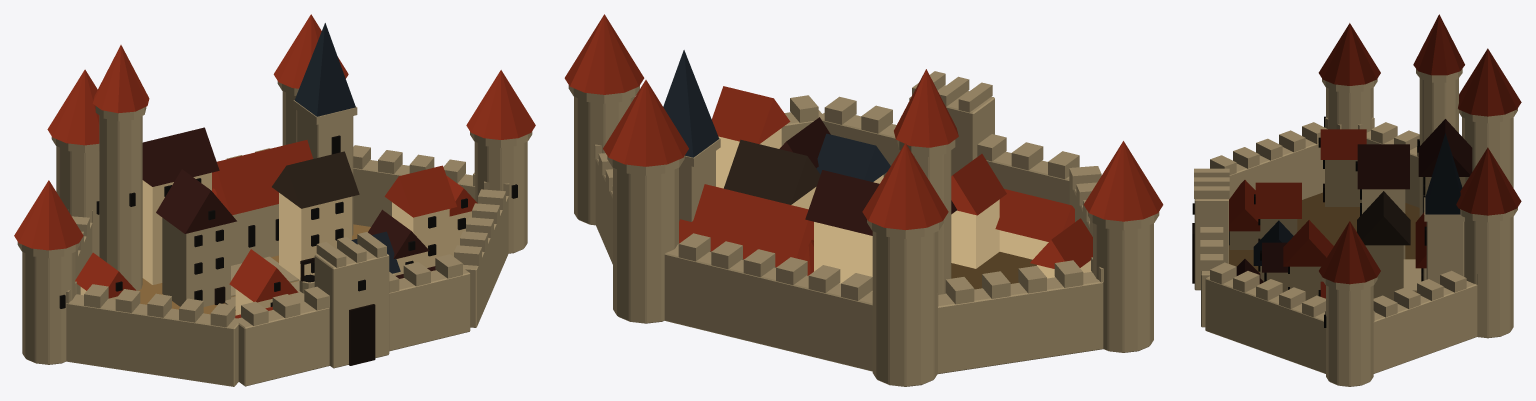
The model's file is settle_2_3.obj.
3 views of the same model, side by side, from view 1: azimuth 30°, elevation 25°; view 2: azimuth 150°, elevation 25°; view 3: azimuth 270°, elevation 25° (orthographic). The views are drawn at different scales.
Visible parts, largest first — view 1: core_stone, core_roof_civic, core_plaster, core_roof_tile_old, core_roof_tile, core_roof_shingle, core_slate, core_window, core_wood_dark, core_cloth; view 2: core_stone, core_roof_civic, core_roof_tile, core_plaster, core_roof_tile_old, core_roof_shingle, core_slate, core_roof_slate, core_cloth; view 3: core_stone, core_roof_civic, core_roof_tile, core_plaster, core_roof_tile_old, core_cloth, core_roof_shingle, core_slate, core_roof_slate, core_window.
Part boxes in pixels (bbox=[...]): core_stone: bbox=[17, 81, 532, 386]; core_roof_civic: bbox=[14, 14, 535, 250]; core_plaster: bbox=[80, 172, 471, 315]; core_roof_tile_old: bbox=[142, 127, 435, 278]; core_roof_tile: bbox=[75, 165, 477, 318]; core_roof_shingle: bbox=[272, 151, 359, 208]; core_slate: bbox=[294, 23, 355, 116]; core_window: bbox=[59, 135, 517, 308]; core_wood_dark: bbox=[214, 257, 375, 365]; core_cloth: bbox=[138, 224, 370, 315]; core_stone: bbox=[568, 71, 1159, 386]; core_roof_civic: bbox=[564, 14, 1163, 275]; core_roof_tile: bbox=[711, 86, 1092, 268]; core_plaster: bbox=[716, 128, 1091, 291]; core_roof_tile_old: bbox=[779, 117, 956, 235]; core_roof_shingle: bbox=[723, 139, 820, 204]; core_slate: bbox=[663, 50, 719, 157]; core_roof_slate: bbox=[816, 133, 890, 181]; core_cloth: bbox=[951, 252, 1036, 289]; core_stone: bbox=[1194, 69, 1517, 386]; core_roof_civic: bbox=[1318, 14, 1521, 284]; core_roof_tile: bbox=[1229, 129, 1366, 298]; core_plaster: bbox=[1229, 160, 1465, 300]; core_roof_tile_old: bbox=[1236, 119, 1472, 283]; core_cloth: bbox=[1229, 192, 1419, 292]; core_roof_shingle: bbox=[1357, 191, 1410, 245]; core_slate: bbox=[1425, 133, 1462, 214]; core_roof_slate: bbox=[1253, 220, 1293, 265]; core_window: bbox=[1192, 116, 1426, 327].
Size of the model in its own units: 1.72 by 0.782 by 1.07.
